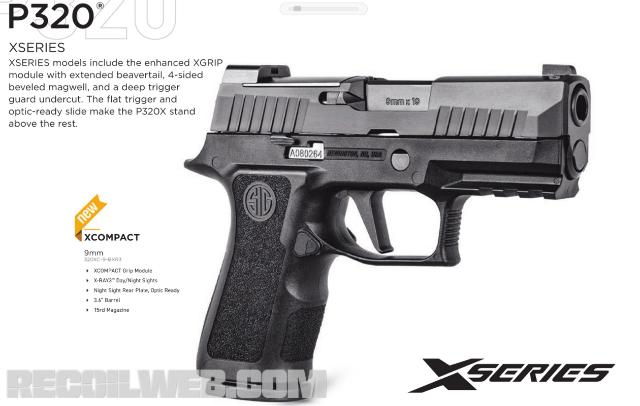handgun: (178, 57, 592, 406)
